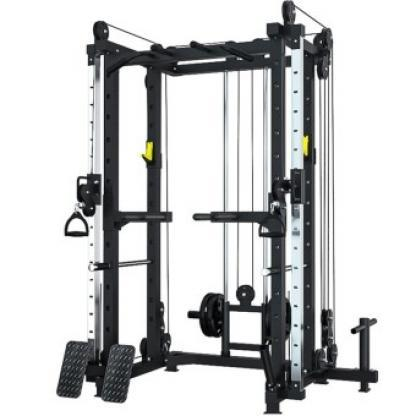smith machine: (65, 0, 380, 413)
